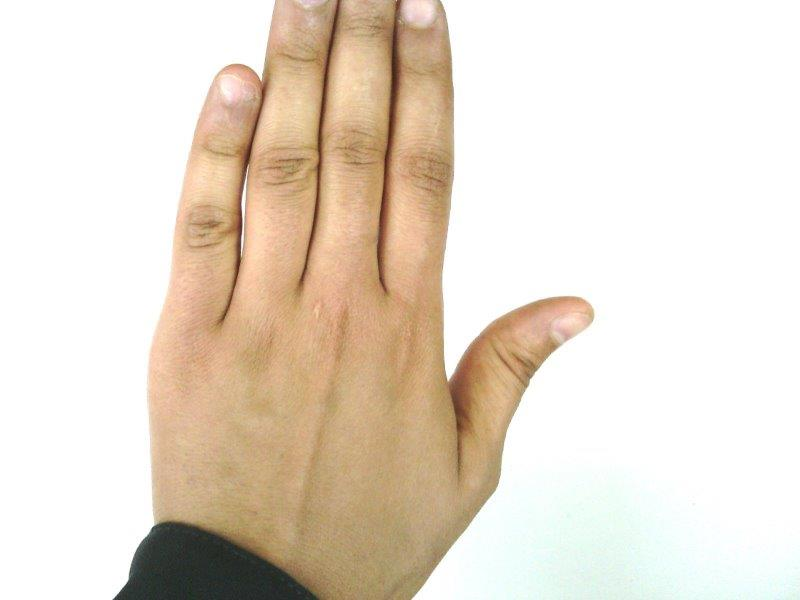hand: (147, 1, 592, 556)
